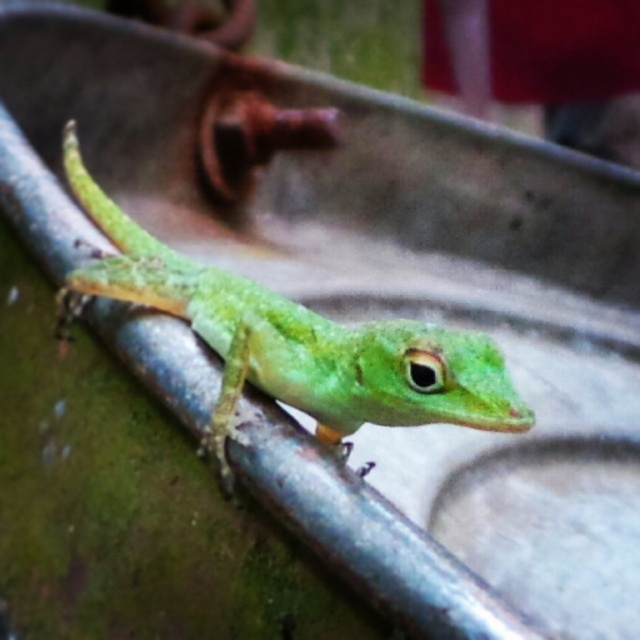Lizard: (54, 117, 537, 503)
